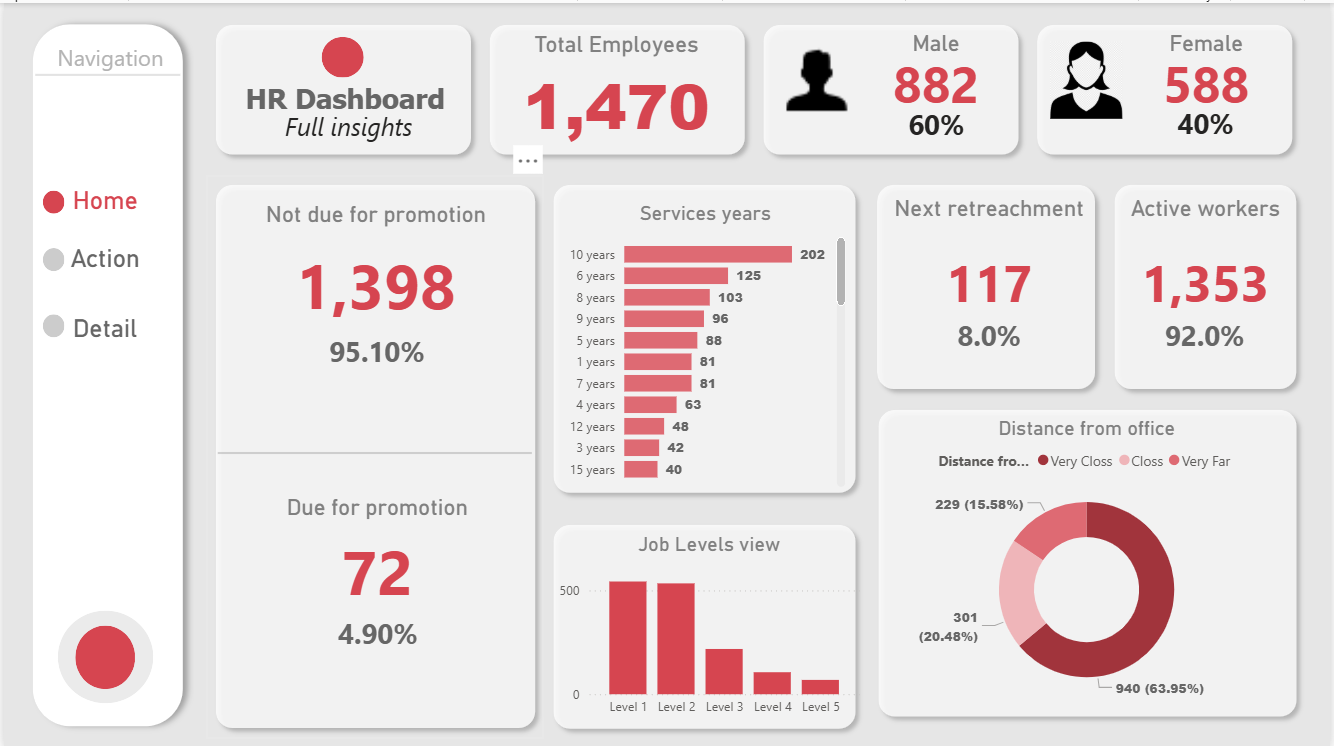

The page's visual inventory and layout, read from the dashboard file:
{"tool":"powerbi","page":{"name":"Home","canvas":[1280,720],"ordinal":0},"visuals":[{"type":"shape","box":[16.5,9.6,166.5,699.2],"z":0},{"type":"shape","box":[195.4,12.4,264.3,143.1],"z":1000},{"type":"shape","box":[459.7,12.4,264.3,143.1],"z":2000},{"type":"shape","box":[724,12.4,264.3,143.1],"z":3000},{"type":"shape","box":[988.2,12.4,264.3,143.1],"z":4000},{"type":"shape","box":[195.4,166.5,326.2,542.3],"z":5000},{"type":"shape","box":[521.6,166.2,309.7,315.2],"z":6000},{"type":"shape","box":[521.6,494.1,309.7,214.7],"z":7000},{"type":"shape","box":[834.8,384.2,421.6,314.1],"z":8000},{"type":"shape","box":[833.6,166.7,228.3,215],"z":9000},{"type":"shape","box":[1063.1,166.7,193.3,215],"z":10000},{"type":"textbox","box":[209.7,71.2,238.7,51.4],"z":11000},{"type":"textbox","box":[36.9,33,130.5,51.4],"z":12000},{"type":"textbox","box":[209.7,97.6,251.9,55.4],"z":13000},{"type":"shape","box":[305.9,33,40.9,39.6],"z":14000},{"type":"card","title":"Total Employees","fields":{"Values":["All Measures.Total Emp"]},"box":[468,27.5,246.4,112.9],"z":15000},{"type":"card","title":"Male","fields":{"Values":["All Measures.Male"]},"box":[814.8,26.2,170.7,75.7],"z":16000},{"type":"card","fields":{"Values":["All Measures.Male %"]},"box":[834.1,90.8,132.1,55.1],"z":17000},{"type":"card","title":"Female","fields":{"Values":["All Measures.Female"]},"box":[1068.7,26.2,183.1,75.7],"z":18000},{"type":"card","fields":{"Values":["All Measures.Female %"]},"box":[1083.9,90.8,152.8,53.7],"z":19000},{"type":"image","box":[736.3,26.2,95,90.8],"z":20000},{"type":"actionButton","title":"Home","box":[27.8,176.4,140.1,30.2],"z":21000},{"type":"image","box":[1004.7,33,79.8,84],"z":22000},{"type":"actionButton","title":"Action","box":[27.7,233.4,139.8,56.7],"z":23000},{"type":"card","title":"Active workers","fields":{"Values":["All Measures.On service"]},"box":[1058.3,186,203,142.6],"z":24000},{"type":"actionButton","title":"Detail","box":[27.7,300.7,139.8,58],"z":25000},{"type":"card","fields":{"Values":["All Measures.% Active workers"]},"box":[1082.4,296,153.4,53.2],"z":26000},{"type":"card","title":"Next retreachment","fields":{"Values":["All Measures.Due for retirment"]},"box":[843.2,186,215,142.6],"z":27000},{"type":"card","fields":{"Values":["All Measures.%Due for retirment"]},"box":[865,296,171.5,53.2],"z":28000},{"type":"columnChart","title":"Job Levels view","fields":{"Category":["HR Analytics Data.Job Level"],"Y":["All Measures.Total Emp"]},"box":[531.3,512,300,185.8],"z":29000},{"type":"barChart","title":"Services years","fields":{"Category":["HR Analytics Data.Total working Years"],"Y":["All Measures.Total Emp"]},"box":[536.4,192.1,280.3,280.3],"z":30000},{"type":"donutChart","title":"Distance from office","fields":{"Category":["HR Analytics Data.Distance from office"],"Y":["All Measures.Total Emp"]},"box":[840.8,399.9,408.3,282.7],"z":31000},{"type":"card","title":"Not due for promotion","fields":{"Values":["All Measures.Not Due"]},"box":[207.8,192.1,303.2,130.5],"z":32000},{"type":"card","title":"Due for promotion","fields":{"Values":["All Measures.Due for promotion"]},"box":[209,473.8,303.2,119.6],"z":33000},{"type":"shape","box":[206.6,427.7,303.2,14.5],"z":34000},{"type":"card","fields":{"Values":["All Measures.% Not due for promotion"]},"box":[283.5,309.7,152.8,53.7],"z":35000},{"type":"card","fields":{"Values":["All Measures.% Due for promotion"]},"box":[285.1,582.5,152.2,53.2],"z":36000},{"type":"shape","box":[36.9,180.7,21.1,22.4],"z":37000},{"type":"shape","box":[36.9,236,21.1,22.4],"z":38000},{"type":"shape","box":[36.9,300.7,21.1,22.4],"z":39000},{"type":"shape","box":[51.4,586.8,92.3,89.7],"z":40000},{"type":"shape","box":[30.2,61.6,140.1,15.7],"z":41000},{"type":"shape","box":[68.8,600.8,57.9,61.5],"z":41001}]}

Visuals, with their boxes in screenshot pixels (x1, y1, x2, y2), scaled from the page's 1280x720 canvas onto the 1334x746 screenshot:
shape: detection(17, 10, 191, 734)
shape: detection(204, 13, 479, 161)
shape: detection(479, 13, 755, 161)
shape: detection(755, 13, 1030, 161)
shape: detection(1030, 13, 1305, 161)
shape: detection(204, 173, 544, 734)
shape: detection(544, 172, 866, 499)
shape: detection(544, 512, 866, 734)
shape: detection(870, 398, 1309, 724)
shape: detection(869, 173, 1107, 395)
shape: detection(1108, 173, 1309, 395)
textbox: detection(219, 74, 467, 127)
textbox: detection(38, 34, 174, 87)
textbox: detection(219, 101, 481, 159)
shape: detection(319, 34, 361, 75)
"Total Employees" card: detection(488, 28, 745, 145)
"Male" card: detection(849, 27, 1027, 106)
card - All Measures.Male %: detection(869, 94, 1007, 151)
"Female" card: detection(1114, 27, 1305, 106)
card - All Measures.Female %: detection(1130, 94, 1289, 150)
image: detection(767, 27, 866, 121)
"Home" actionButton: detection(29, 183, 175, 214)
image: detection(1047, 34, 1130, 121)
"Action" actionButton: detection(29, 242, 175, 301)
"Active workers" card: detection(1103, 193, 1315, 340)
"Detail" actionButton: detection(29, 312, 175, 372)
card - All Measures.% Active workers: detection(1128, 307, 1288, 362)
"Next retreachment" card: detection(879, 193, 1103, 340)
card - All Measures.%Due for retirment: detection(901, 307, 1080, 362)
"Job Levels view" columnChart: detection(554, 530, 866, 723)
"Services years" barChart: detection(559, 199, 851, 489)
"Distance from office" donutChart: detection(876, 414, 1302, 707)
"Not due for promotion" card: detection(217, 199, 533, 334)
"Due for promotion" card: detection(218, 491, 534, 615)
shape: detection(215, 443, 531, 458)
card - All Measures.% Not due for promotion: detection(295, 321, 455, 377)
card - All Measures.% Due for promotion: detection(297, 604, 456, 659)
shape: detection(38, 187, 60, 210)
shape: detection(38, 245, 60, 268)
shape: detection(38, 312, 60, 335)
shape: detection(54, 608, 150, 701)
shape: detection(31, 64, 177, 80)
shape: detection(72, 622, 132, 686)
